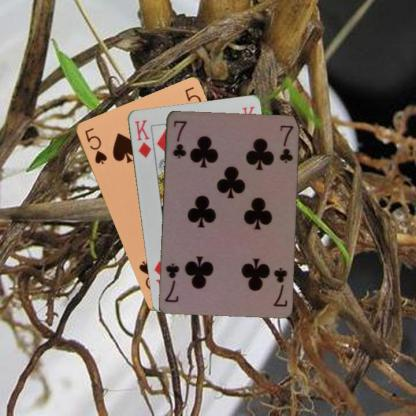5s: (82, 125, 108, 166)
7c: (169, 117, 188, 160), (270, 264, 288, 308)
Kd: (132, 117, 152, 159)
